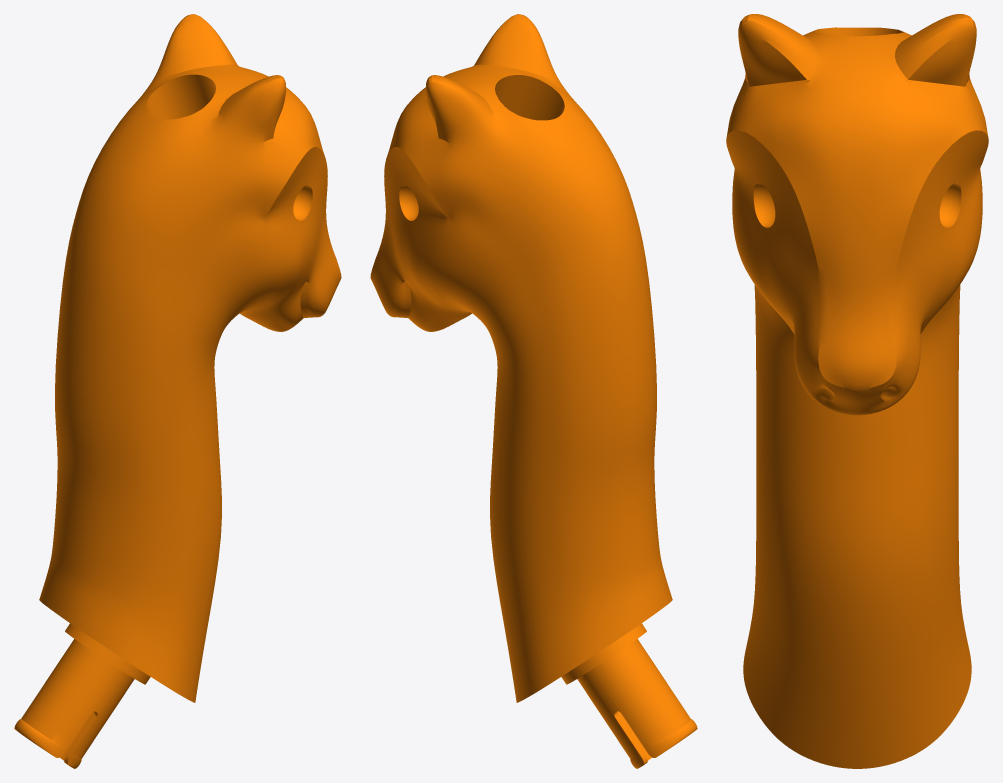
Rendered from Horse Tall Head.glb.
The picture shows the model from 3 angles, left to right: view 1: azimuth 30°, elevation 25°; view 2: azimuth 150°, elevation 25°; view 3: azimuth 270°, elevation 25°; orthographic projection. The views are drawn at different scales.
Parts seen in each view (by area): view 1: Horse Tall Head; view 2: Horse Tall Head; view 3: Horse Tall Head.
Part boxes in pixels (left/top/right/bottom): Horse Tall Head: left=14, top=14, right=341, bottom=768; Horse Tall Head: left=370, top=14, right=697, bottom=768; Horse Tall Head: left=726, top=14, right=988, bottom=768.
Size of the model in its own units: 0.0297 by 0.0615 by 0.0174.
